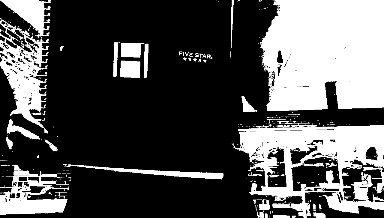H: (113, 41, 148, 78)
